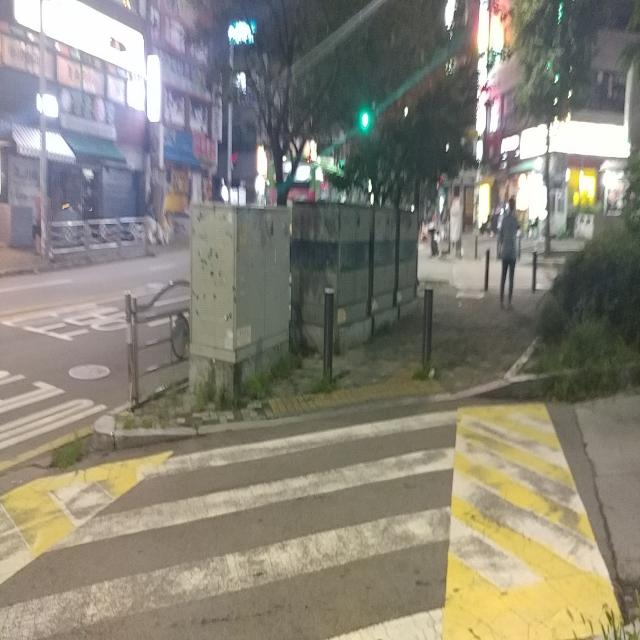횡단보도: (0, 405, 459, 639)
